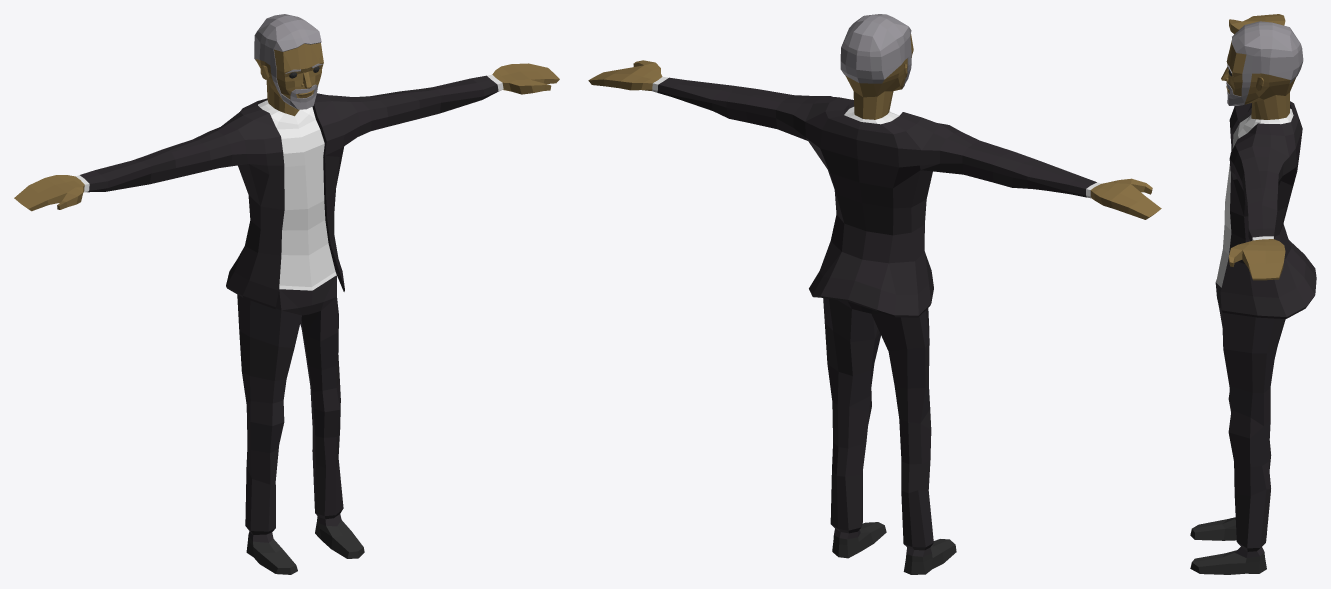
The model's file is for_mixamo_mesh_only.fbx.
3 renders of one model, left to right at view 1: azimuth 30°, elevation 25°; view 2: azimuth 150°, elevation 25°; view 3: azimuth 270°, elevation 25°, orthographic. The views are drawn at different scales.
Parts seen in each view (by area): view 1: BaseHuman; view 2: BaseHuman; view 3: BaseHuman.
Boxes of the visible parts, x1=… form: BaseHuman: x1=14, y1=14, x2=559, y2=574; BaseHuman: x1=588, y1=14, x2=1161, y2=574; BaseHuman: x1=1190, y1=14, x2=1316, y2=574.
Size of the model in its own units: 5.2 by 4.84 by 1.05.
